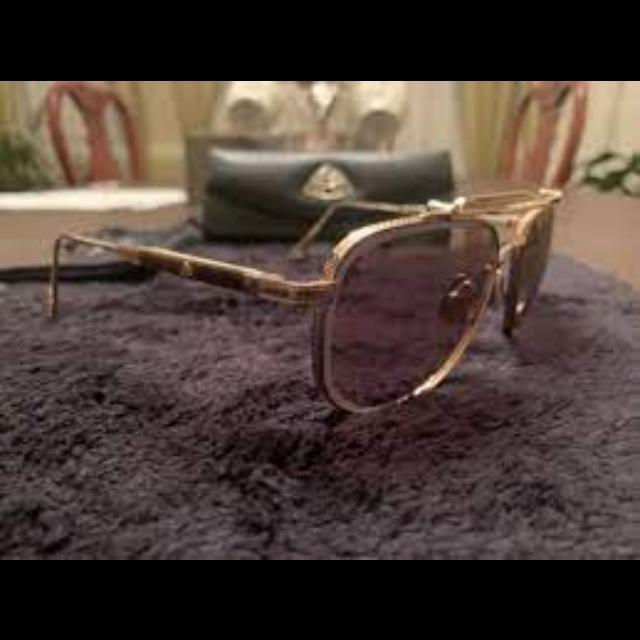sunglasses: (23, 186, 591, 410)
